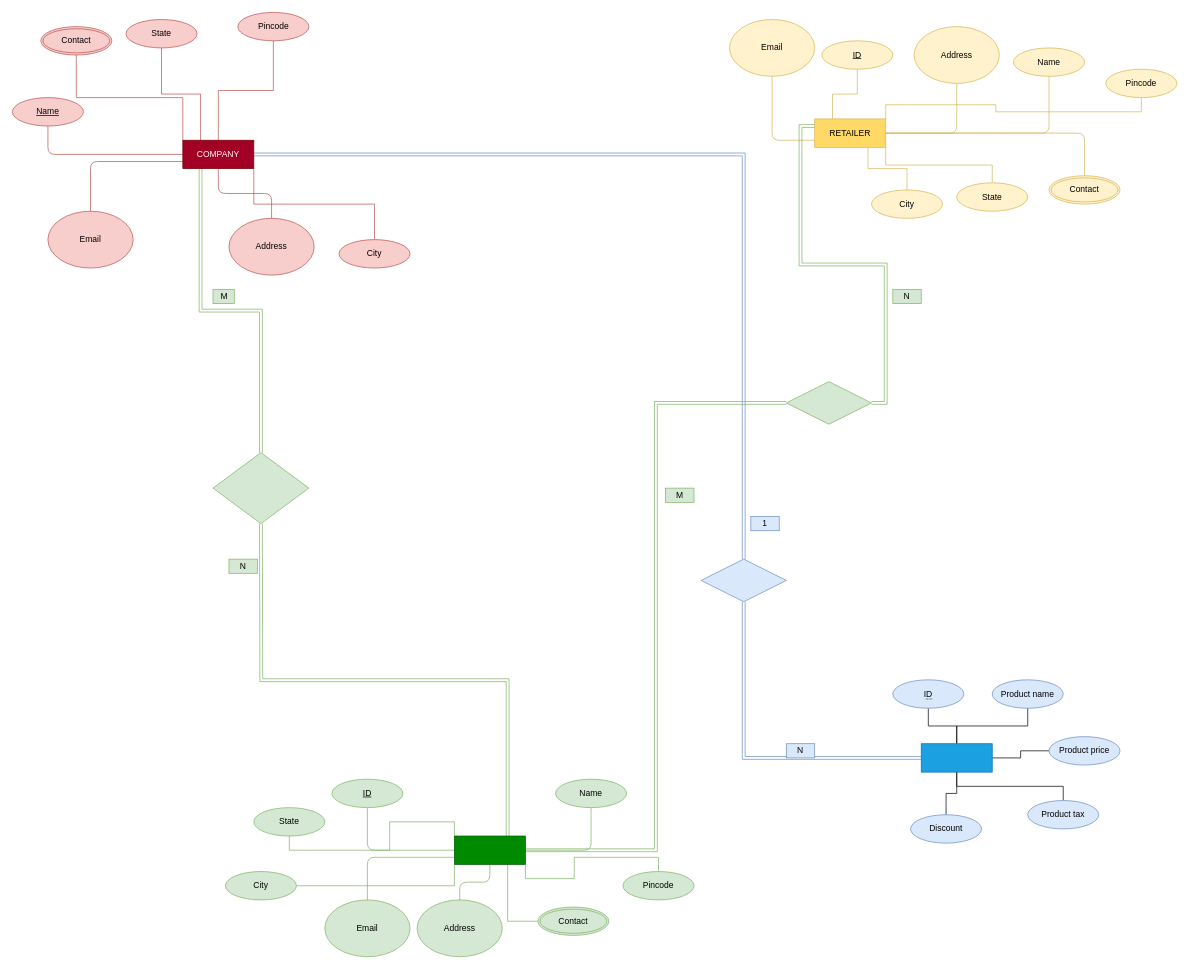
Image size: 1189x969. Some labels were removed from this diagram. Here are the shapes that lost their labels. From the top down, the centre of each, then its label:
(829,402): DISTRIBUTES
(260,488): Supplies
(743,580): Product list
(956,757): PRODUCT
(489,849): DISTRIBUTOR
